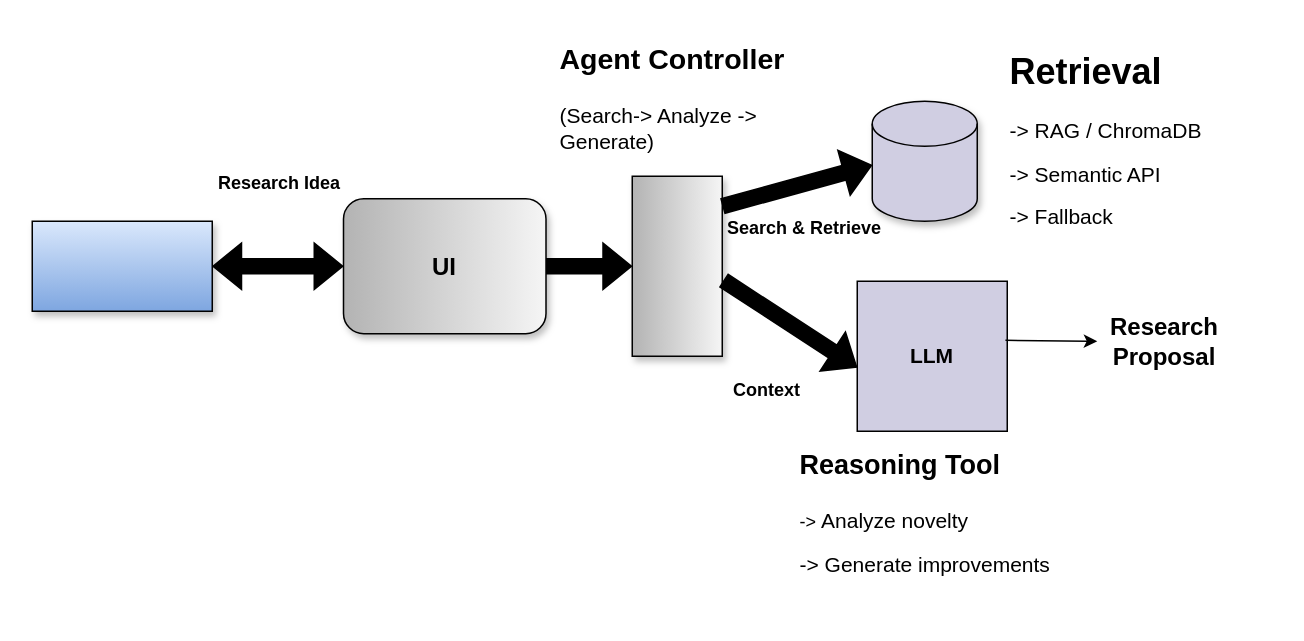
Image size: 1304x641. Some labels were removed from this diagram. The shapes that lost their labels are listed below. From the top down, each one's centre as x and y in pixels, then its label:
At pixel 925 163: "Storage".
At pixel 123 268: "User".
